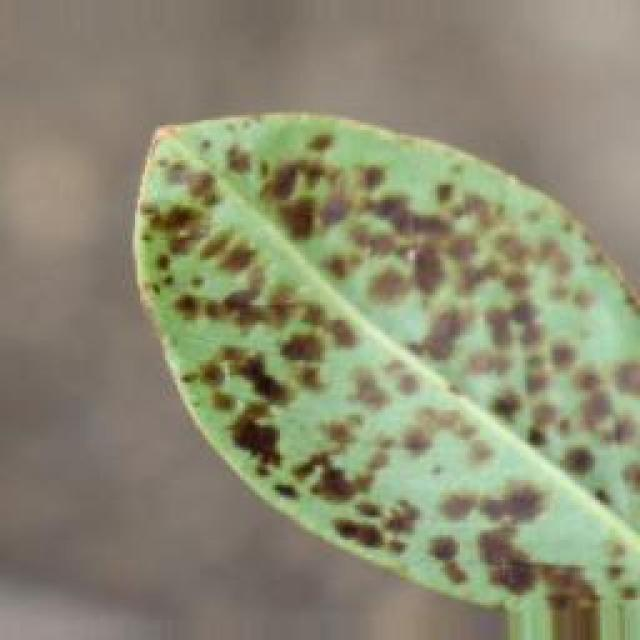Whitefly: (97, 55, 640, 631)
